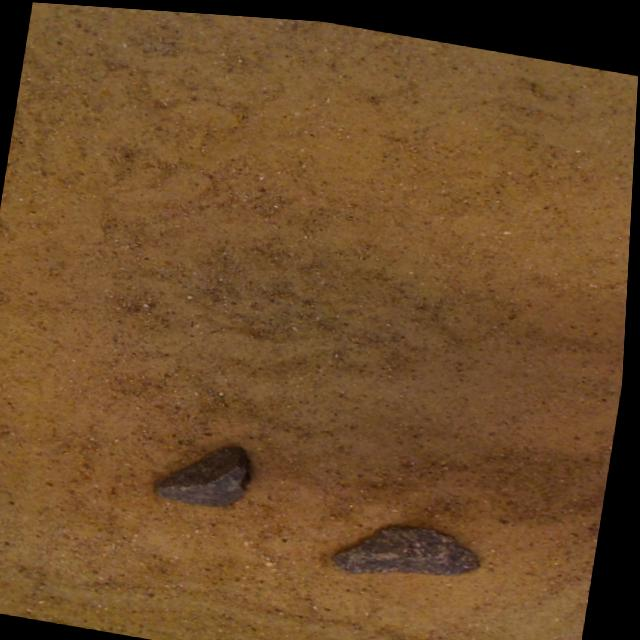rock: (338, 520, 483, 567), (160, 442, 252, 502)
